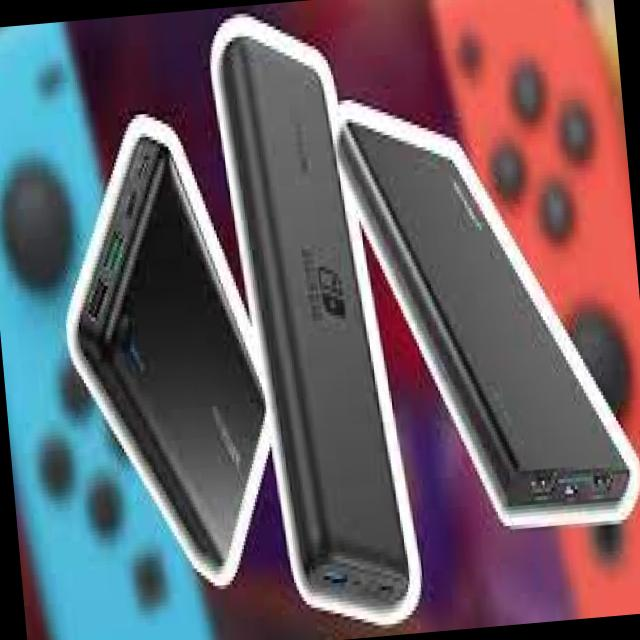portable-charger: (336, 81, 640, 548), (208, 18, 414, 627), (49, 109, 288, 604)
